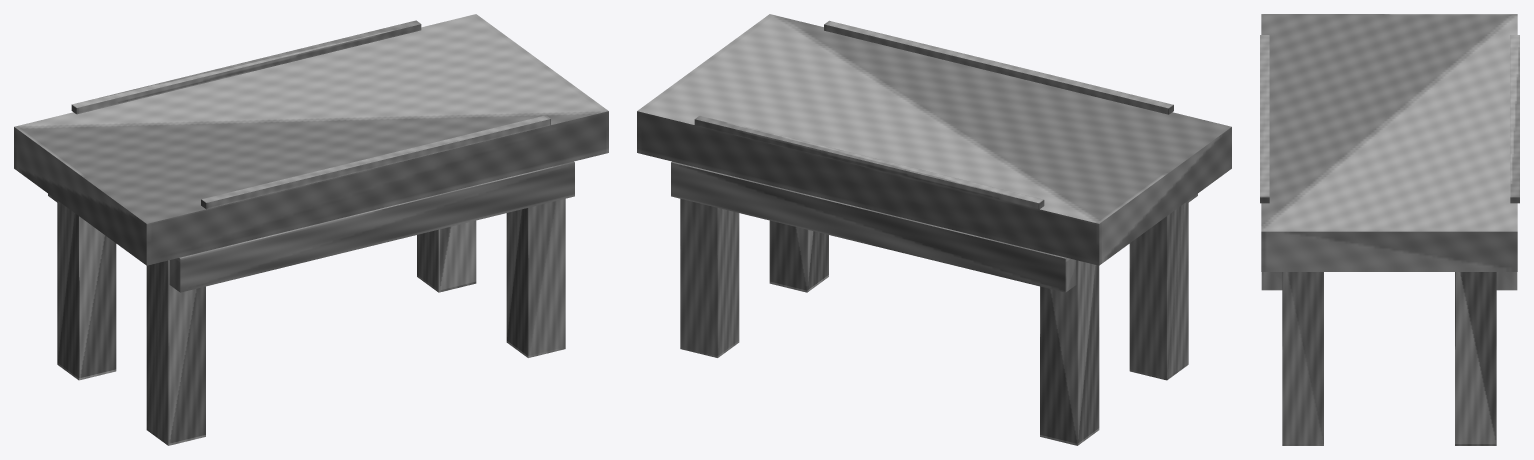
The model's file is furniture-geode-table.glb.
The picture shows the model from 3 angles, left to right: view 1: azimuth 30°, elevation 25°; view 2: azimuth 150°, elevation 25°; view 3: azimuth 270°, elevation 25°; orthographic projection. The views are drawn at different scales.
Parts seen in each view (by area): view 1: slab, rear-apron, leg--0.72-0.31, leg--0.72--0.31, leg-0.72-0.31, iron-inlay-a, iron-inlay-b, leg-0.72--0.31; view 2: slab, front-apron, leg--0.72--0.31, leg--0.72-0.31, leg-0.72--0.31, iron-inlay-a, iron-inlay-b, leg-0.72-0.31; view 3: slab, leg-0.72--0.31, leg-0.72-0.31, iron-inlay-a, iron-inlay-b, front-apron, rear-apron.
Boxes of the visible parts, x1=… form: slab: x1=14, y1=14, x2=608, y2=265; rear-apron: x1=169, y1=161, x2=574, y2=292; leg--0.72-0.31: x1=146, y1=260, x2=205, y2=445; leg--0.72--0.31: x1=57, y1=200, x2=116, y2=380; leg-0.72-0.31: x1=506, y1=198, x2=565, y2=357; iron-inlay-a: x1=71, y1=20, x2=421, y2=114; iron-inlay-b: x1=201, y1=115, x2=550, y2=209; leg-0.72--0.31: x1=417, y1=220, x2=476, y2=292; slab: x1=637, y1=14, x2=1231, y2=265; front-apron: x1=671, y1=161, x2=1076, y2=292; leg--0.72--0.31: x1=1040, y1=260, x2=1099, y2=445; leg--0.72-0.31: x1=1129, y1=200, x2=1188, y2=380; leg-0.72--0.31: x1=680, y1=199, x2=739, y2=357; iron-inlay-a: x1=694, y1=115, x2=1044, y2=209; iron-inlay-b: x1=824, y1=20, x2=1173, y2=114; leg-0.72-0.31: x1=769, y1=220, x2=828, y2=292; slab: x1=1261, y1=14, x2=1517, y2=271; leg-0.72--0.31: x1=1455, y1=272, x2=1496, y2=445; leg-0.72-0.31: x1=1282, y1=272, x2=1323, y2=445; iron-inlay-a: x1=1510, y1=35, x2=1519, y2=203; iron-inlay-b: x1=1260, y1=35, x2=1269, y2=203; front-apron: x1=1496, y1=272, x2=1517, y2=290; rear-apron: x1=1261, y1=272, x2=1282, y2=290.
Size of the model in its own units: 1.85 by 0.937 by 0.9333.
Materials: 9 (9 with a texture image).
